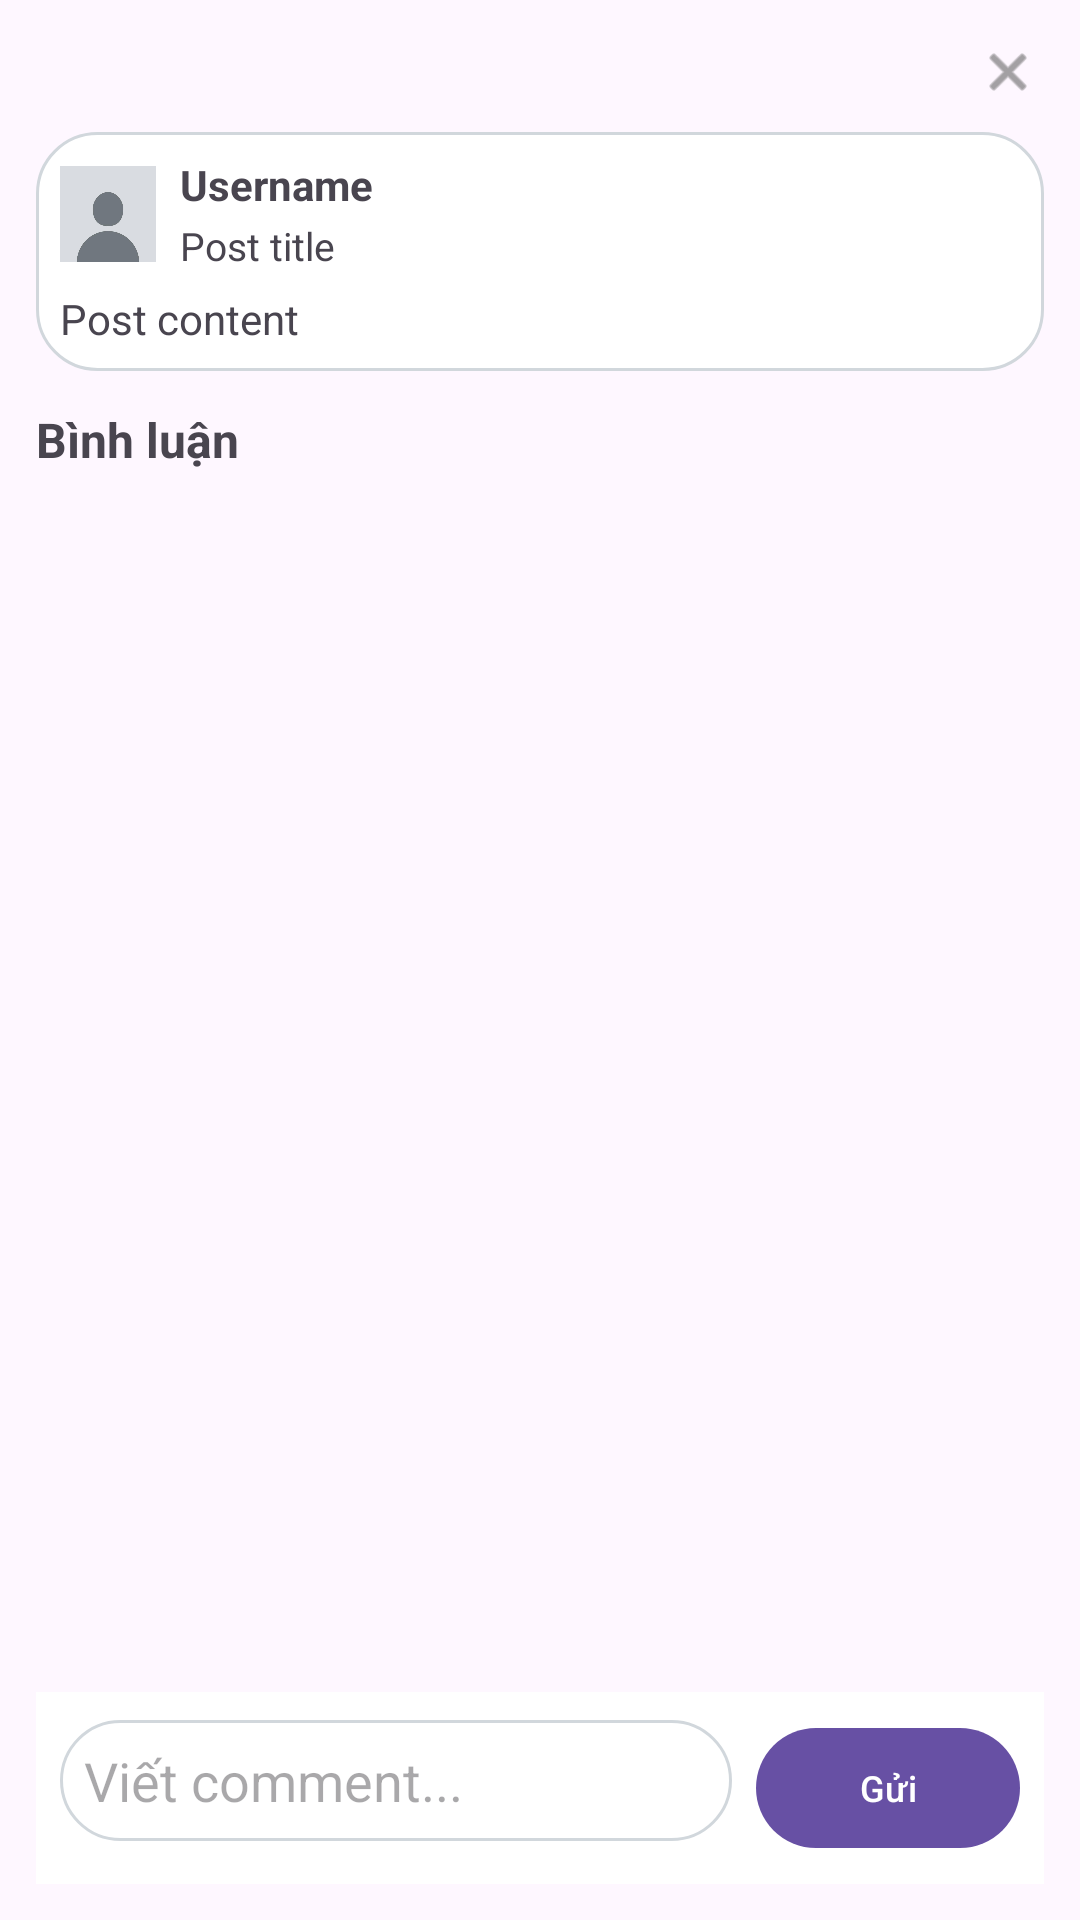

Icon bounding boxes for this 1080px x 1920px phone screenshot, format box(x1, y1, x2, y2):
Close dialog: box(989, 53, 1027, 91)
